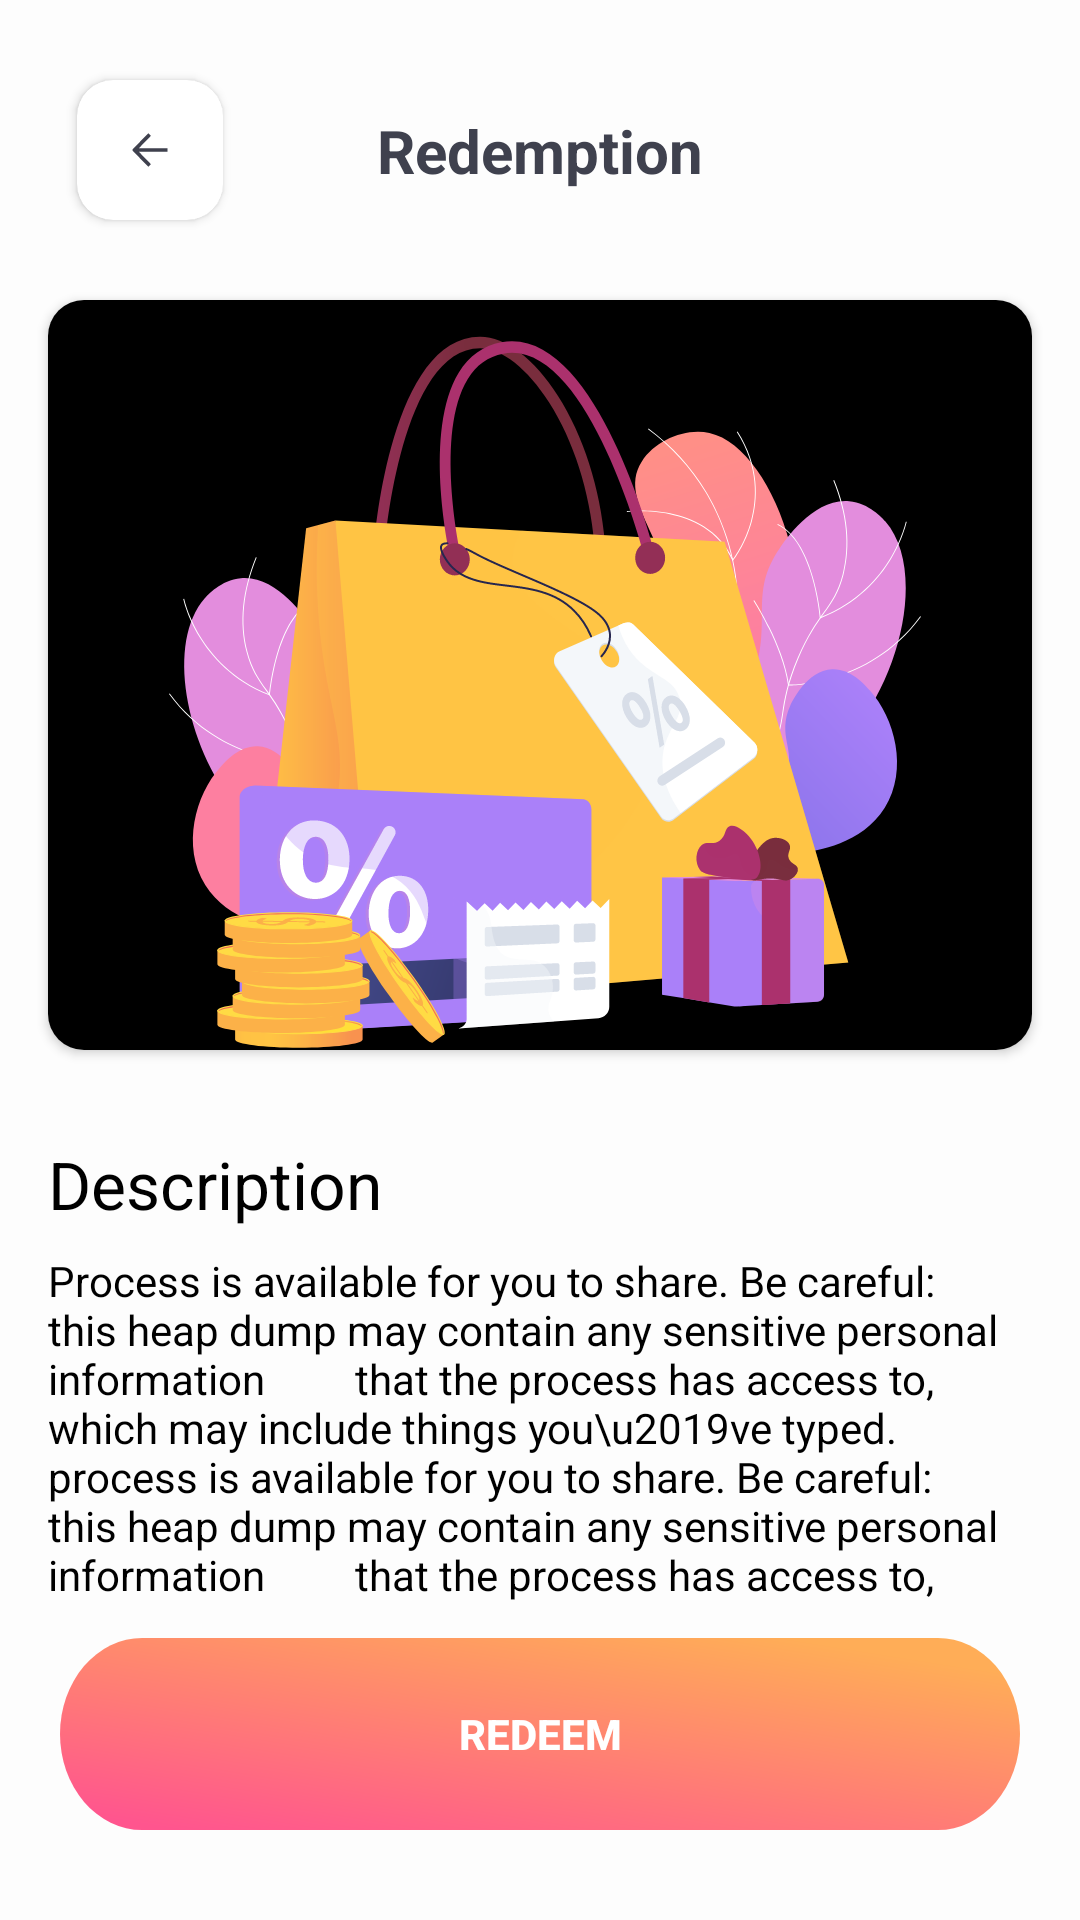

Point at icon controls on the screen. Image size 1080x1920, points as point (x, y).
back: point (146, 150)
